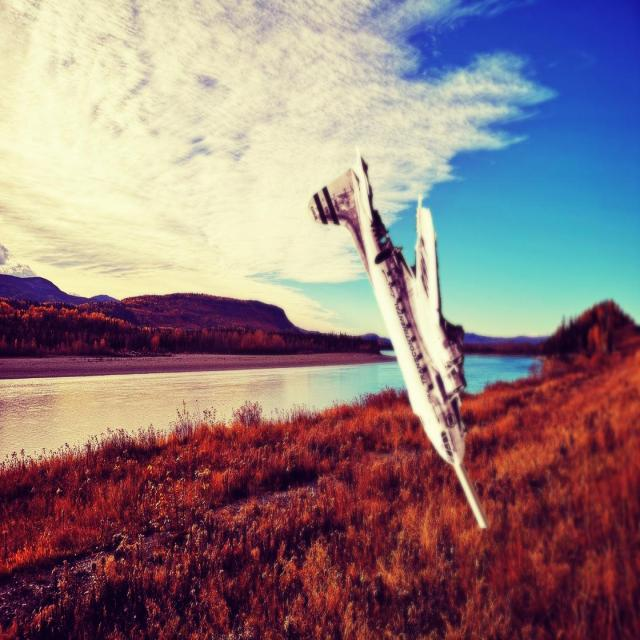airplane: (308, 146, 490, 530)
